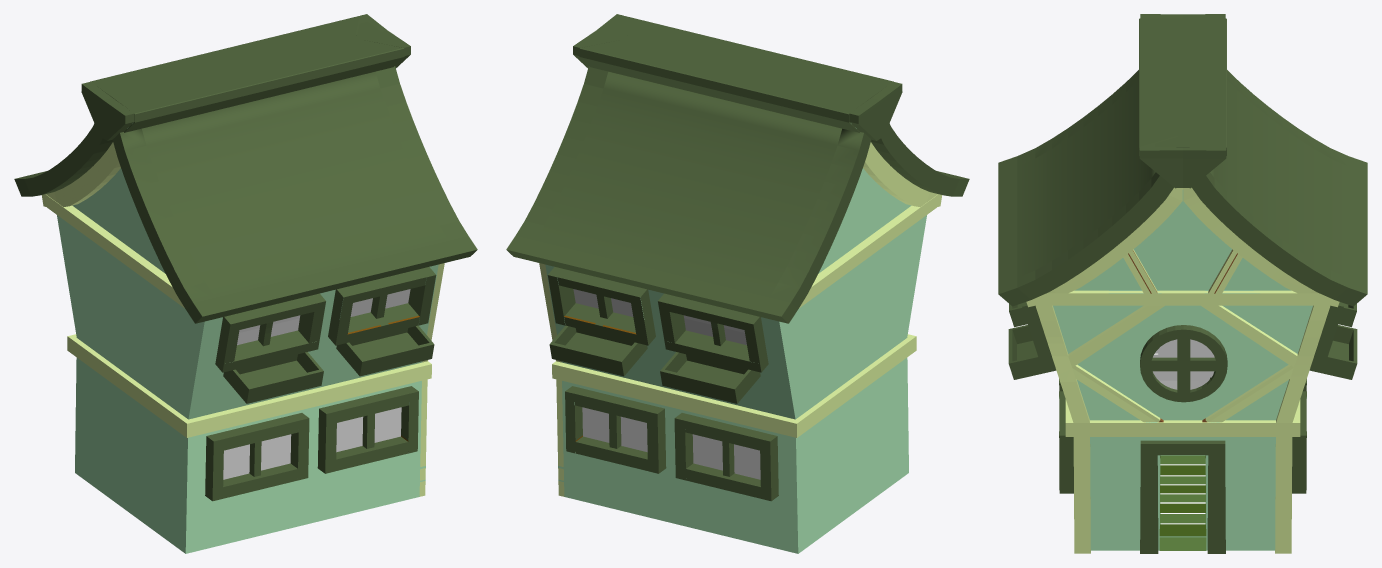
File: building_green 1.fbx
The picture shows the model from 3 angles, left to right: view 1: azimuth 30°, elevation 25°; view 2: azimuth 150°, elevation 25°; view 3: azimuth 270°, elevation 25°; orthographic projection.
Parts seen in each view (by area): view 1: House_Green; view 2: House_Green; view 3: House_Green.
Part boxes in pixels (x1,y1,x2,y2): House_Green: (14, 14, 477, 553); House_Green: (506, 14, 969, 553); House_Green: (998, 14, 1367, 553).
Size of the model in its own units: 652 by 917 by 744.
